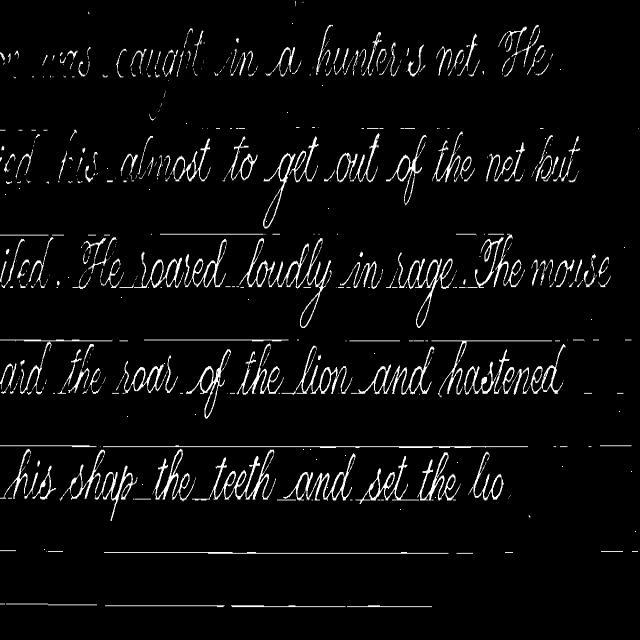noise: (0, 129, 100, 185), (0, 47, 106, 77), (104, 601, 432, 609), (102, 444, 529, 450), (102, 550, 474, 556), (280, 123, 450, 133), (552, 441, 632, 449), (0, 444, 100, 449), (144, 338, 289, 341), (160, 233, 265, 237), (593, 333, 634, 343), (204, 123, 248, 132), (0, 602, 99, 606), (582, 388, 626, 396), (0, 338, 114, 341), (0, 232, 66, 236), (482, 233, 512, 239), (408, 340, 434, 346), (38, 548, 64, 554), (600, 549, 625, 555), (119, 282, 144, 288), (279, 388, 306, 393), (0, 548, 22, 554), (432, 340, 560, 341), (111, 386, 127, 393), (276, 495, 296, 500), (226, 282, 242, 288), (454, 285, 478, 289), (456, 233, 480, 236), (104, 178, 115, 183), (350, 340, 400, 341), (504, 549, 514, 554), (630, 549, 640, 554), (350, 388, 360, 393), (538, 126, 549, 130), (87, 232, 98, 236), (190, 498, 210, 500), (400, 498, 420, 500), (134, 498, 151, 500), (273, 232, 281, 236), (572, 338, 587, 340), (228, 392, 236, 395), (119, 340, 128, 341)
not-noise: (140, 237, 332, 313), (264, 26, 488, 77), (262, 129, 384, 213), (475, 234, 609, 287), (381, 132, 476, 204), (438, 345, 564, 394), (116, 36, 262, 76), (388, 252, 452, 328), (121, 137, 211, 181), (63, 454, 135, 505), (0, 236, 68, 287), (180, 350, 230, 418), (366, 348, 434, 395), (210, 450, 274, 499), (292, 453, 355, 500), (293, 346, 352, 394), (72, 235, 124, 289), (496, 28, 553, 76), (5, 449, 55, 500), (114, 356, 180, 393), (52, 345, 101, 394), (530, 136, 579, 183), (0, 354, 51, 395), (418, 452, 459, 500), (238, 344, 274, 393), (366, 456, 407, 499), (485, 142, 529, 182), (222, 136, 259, 181), (154, 454, 190, 500), (472, 452, 504, 500), (304, 365, 352, 394), (342, 260, 382, 288), (266, 366, 284, 394), (464, 279, 466, 285)
